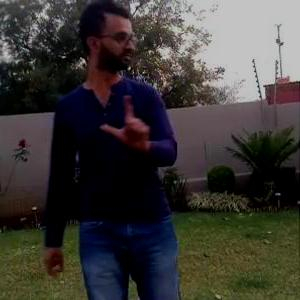land_hand: (100, 93, 154, 152)
